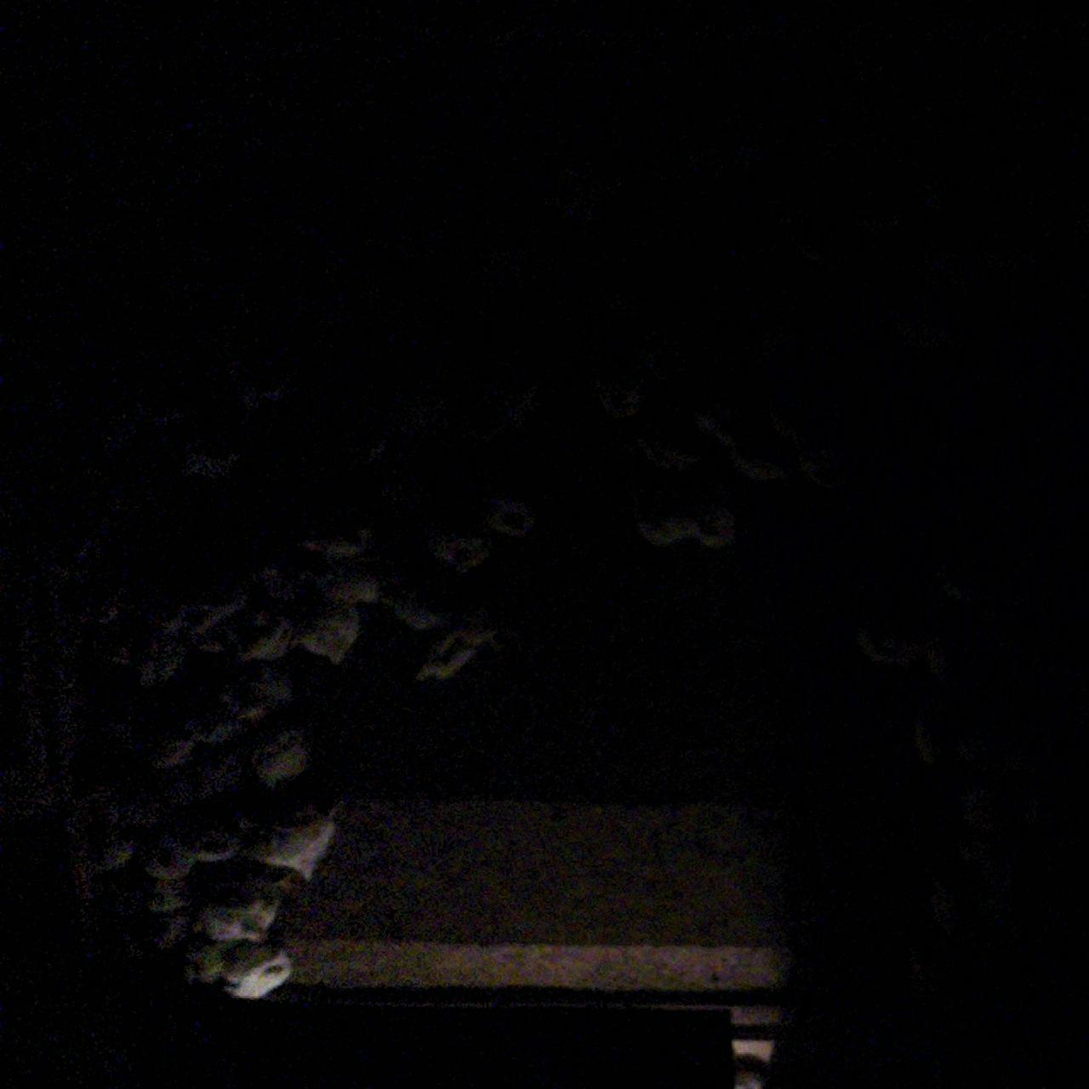chicken: (687, 397, 786, 489), (761, 393, 853, 490), (416, 591, 506, 686), (247, 791, 337, 885), (460, 356, 549, 442), (94, 815, 197, 889), (354, 428, 430, 517), (412, 509, 501, 583), (875, 285, 964, 358), (133, 869, 203, 958), (768, 200, 852, 274), (164, 744, 252, 810), (460, 476, 545, 544), (164, 417, 249, 483), (619, 419, 712, 476), (923, 548, 996, 620), (224, 338, 289, 418), (304, 556, 388, 617), (192, 888, 281, 945), (240, 547, 314, 615), (81, 581, 138, 669), (894, 928, 956, 1008), (228, 651, 295, 725), (179, 571, 245, 646), (175, 682, 251, 747), (296, 591, 360, 668), (92, 380, 163, 449), (621, 317, 684, 394), (290, 514, 383, 566), (130, 612, 193, 688), (386, 567, 454, 637), (542, 156, 614, 222), (213, 941, 289, 1003), (967, 220, 1041, 283), (229, 603, 299, 669), (626, 472, 687, 546), (588, 354, 650, 426), (681, 480, 740, 555), (914, 865, 970, 943), (178, 807, 248, 869), (254, 714, 314, 784), (905, 234, 972, 296), (949, 832, 1017, 890), (943, 710, 999, 780), (389, 371, 452, 432), (852, 612, 915, 672), (908, 706, 958, 780), (918, 622, 966, 699), (167, 930, 227, 991), (901, 155, 960, 217), (971, 885, 1027, 948), (953, 773, 1007, 836), (143, 727, 200, 782)
